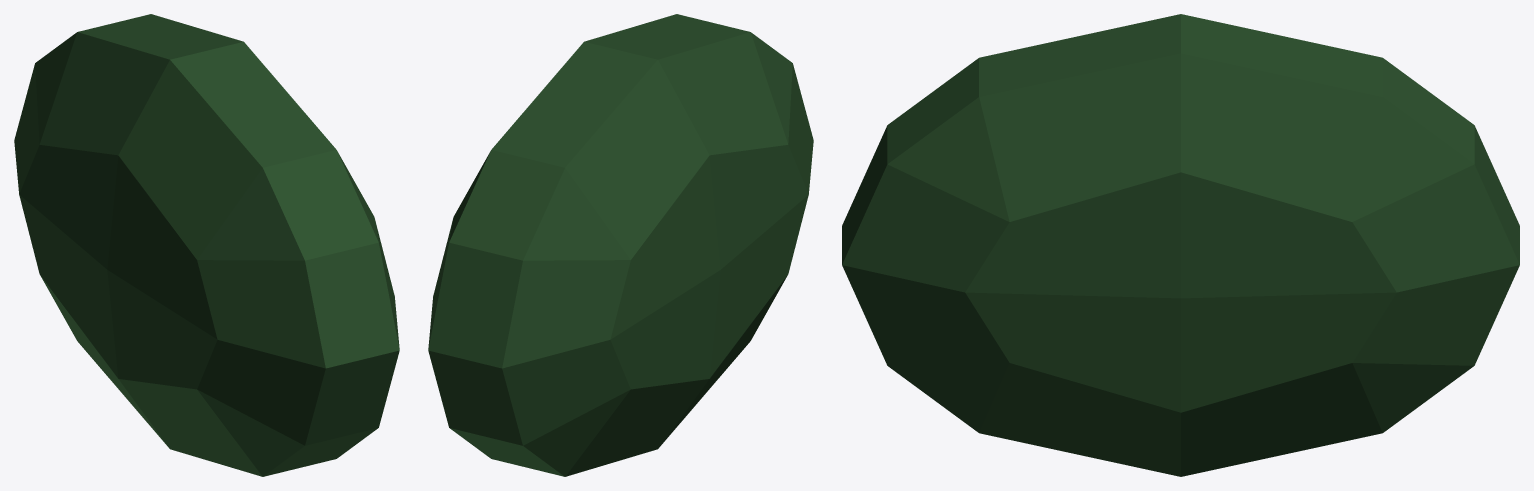
Rendered from SM_Sapphire.glb.
3 renders of one model, left to right at view 1: azimuth 30°, elevation 25°; view 2: azimuth 150°, elevation 25°; view 3: azimuth 270°, elevation 25°, orthographic. The views are drawn at different scales.
Parts seen in each view (by area): view 1: SM_Sapphire; view 2: SM_Sapphire; view 3: SM_Sapphire.
Boxes of the visible parts, bbox=[...] form: SM_Sapphire: bbox=[14, 14, 399, 476]; SM_Sapphire: bbox=[428, 14, 813, 476]; SM_Sapphire: bbox=[842, 14, 1519, 476].
Size of the model in its own units: 0.075 by 0.14 by 0.203.
Materials: 1 (1 with a texture image).
